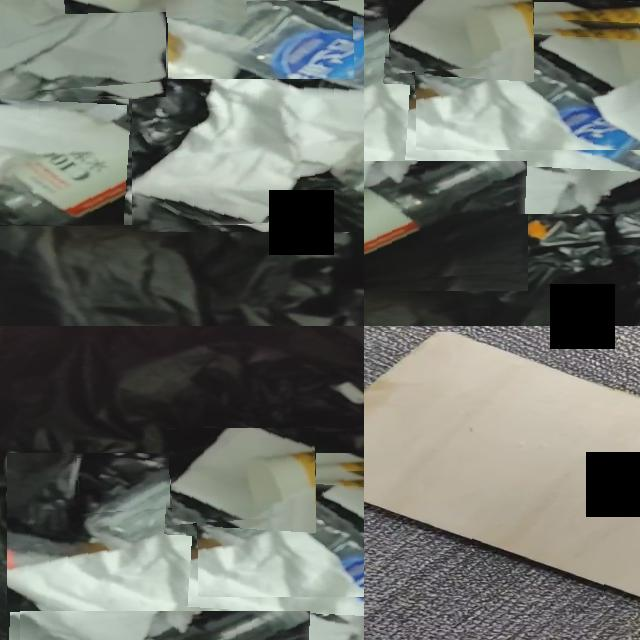bottle: (0, 101, 273, 225), (128, 0, 364, 115), (415, 30, 640, 150), (197, 481, 364, 585), (364, 161, 527, 258)
carton: (364, 332, 640, 598)
dixie_cup: (78, 458, 239, 507), (364, 7, 458, 57)
paper: (7, 515, 364, 640), (364, 53, 640, 214), (132, 79, 364, 225), (0, 0, 166, 87), (171, 428, 315, 522), (390, 0, 533, 71)
